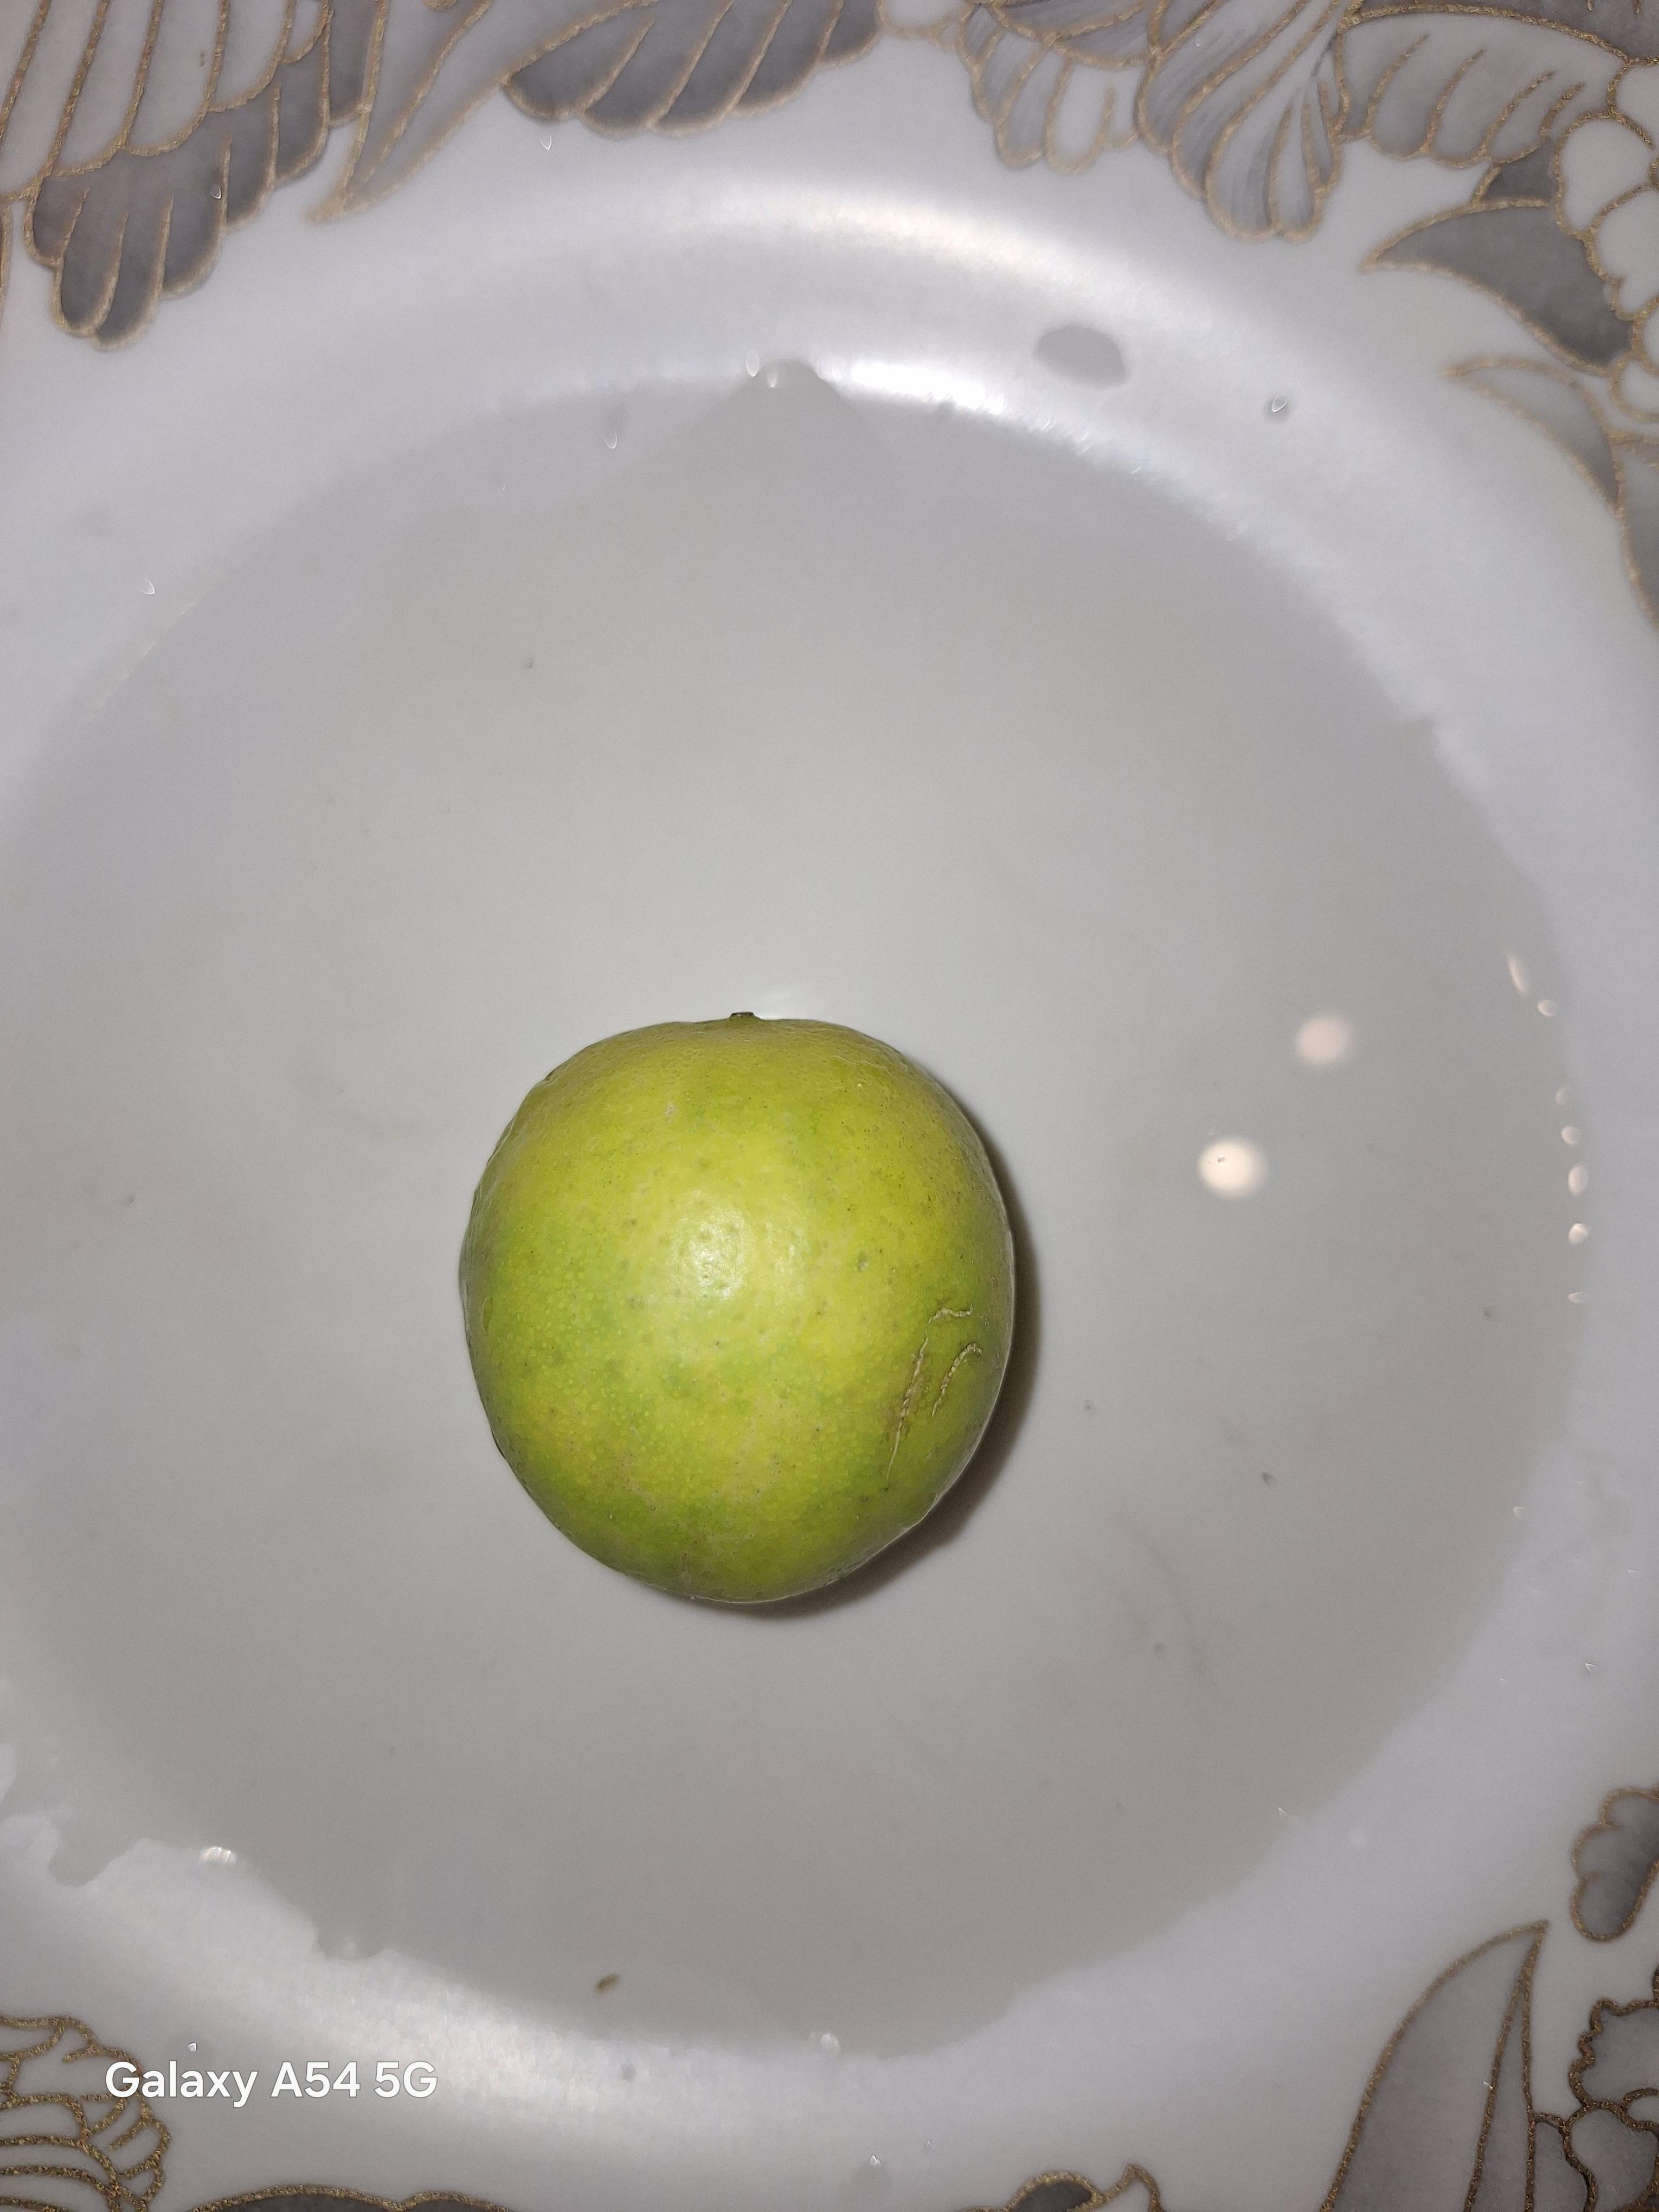non-mango: (450, 1005, 1046, 1635)
